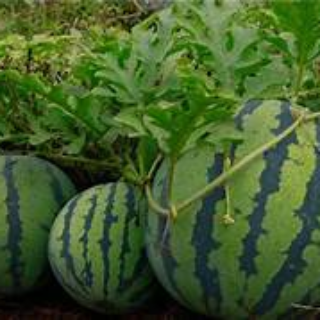dua_hau: (145, 93, 320, 316), (47, 178, 167, 304)
